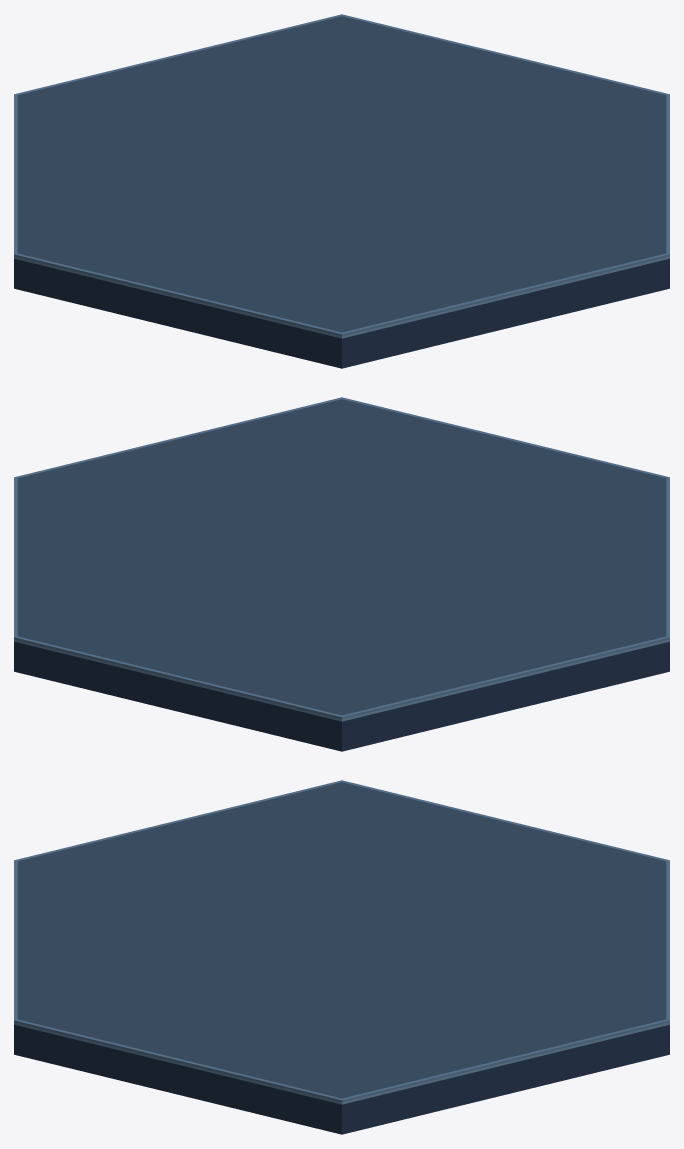
Rendered from campus_base_hex_v01.glb.
The picture shows the model from 3 angles, top to bottom: view 1: azimuth 30°, elevation 25°; view 2: azimuth 150°, elevation 25°; view 3: azimuth 270°, elevation 25°; orthographic projection.
Parts seen in each view (by area): view 1: campus_base_hex; view 2: campus_base_hex; view 3: campus_base_hex.
Part boxes in pixels (bbox=[...]): campus_base_hex: bbox=[14, 14, 669, 368]; campus_base_hex: bbox=[14, 397, 669, 751]; campus_base_hex: bbox=[14, 780, 669, 1134].
Size of the model in its own units: 24 by 1.2 by 20.78.
Materials: 1 (1 with a texture image).
